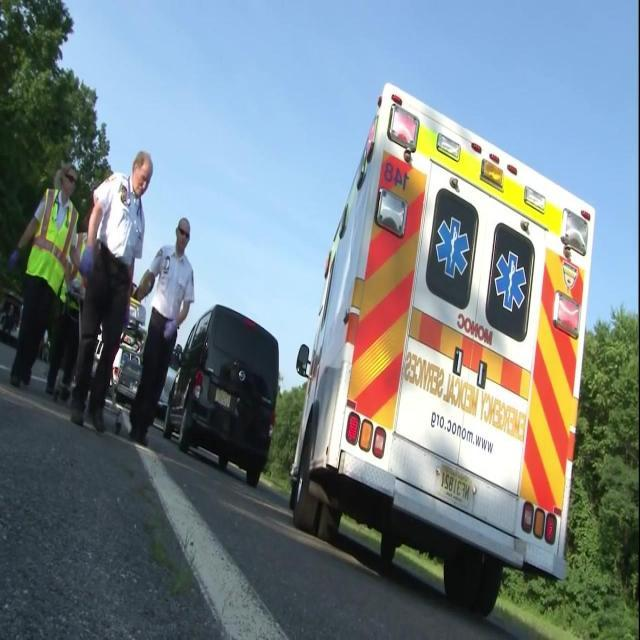reflective_jacket: (19, 184, 86, 318), (86, 176, 149, 280)
safety_helmet: (123, 139, 159, 199), (51, 151, 82, 194), (170, 209, 195, 249)
